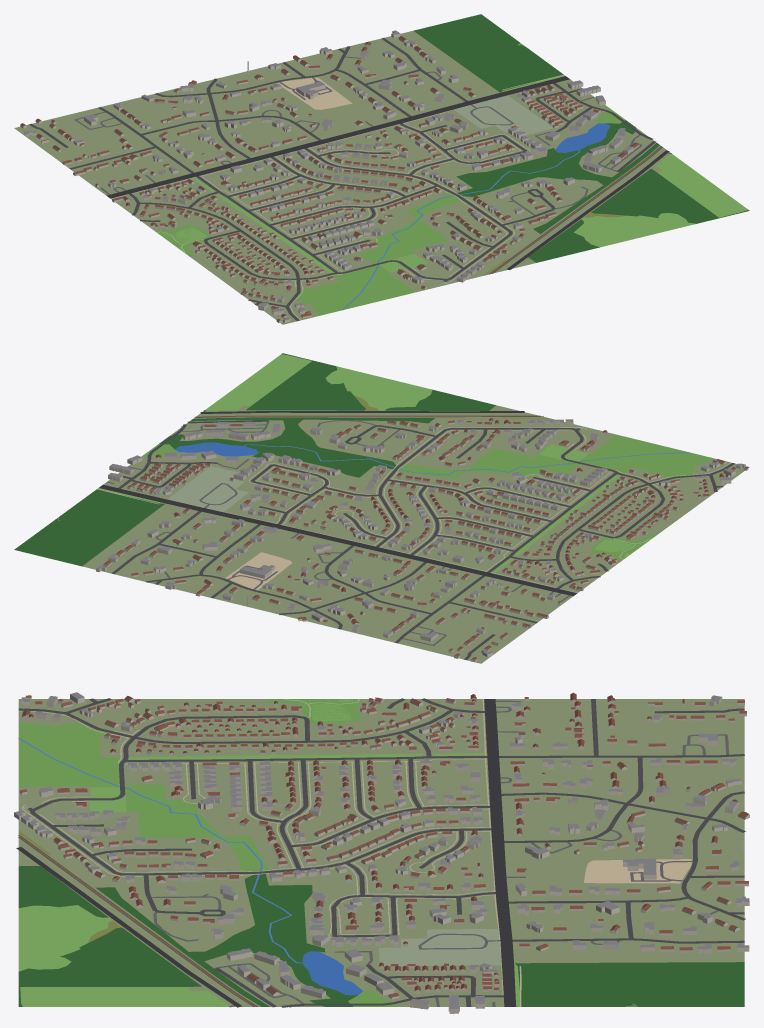
Rendered from level.obj.
3 renders of one model, top to bottom at view 1: azimuth 30°, elevation 25°; view 2: azimuth 150°, elevation 25°; view 3: azimuth 270°, elevation 25°, orthographic. The views are drawn at different scales.
Visible parts, largest first — view 1: ground_plane, gnd_wood_690356904, gnd_wood_1150045702, gnd_wood_690833325, gnd_park_690349266, gnd_grass_690833327, gnd_park_690349265, gnd_grass_1149534451, gnd_cemetery_690944823, road_777889530, road_742134928, gnd_wood_690833328 (+7 smaller); view 2: ground_plane, gnd_wood_690356904, gnd_wood_1150045702, gnd_wood_690833325, gnd_park_690349266, gnd_grass_690833327, gnd_park_690349265, gnd_grass_1149534451, gnd_cemetery_690944823, road_777889530, road_742134928, gnd_wood_690833328 (+8 smaller); view 3: ground_plane, gnd_wood_690356904, gnd_wood_1150045702, gnd_wood_690833325, gnd_park_690349266, gnd_grass_690833327, gnd_park_690349265, gnd_grass_1149534451, gnd_cemetery_690944823, gnd_wood_690833328, road_742134928, gnd_schoolyard_1150045698 (+20 smaller).
Boxes of the visible parts, <box> form: ground_plane: <box>14,31,670,324</box>; gnd_wood_690356904: <box>413,14,563,92</box>; gnd_wood_1150045702: <box>456,120,659,233</box>; gnd_wood_690833325: <box>591,168,749,223</box>; gnd_park_690349266: <box>295,265,415,315</box>; gnd_grass_690833327: <box>574,213,695,247</box>; gnd_park_690349265: <box>359,193,462,263</box>; gnd_grass_1149534451: <box>654,154,747,217</box>; gnd_cemetery_690944823: <box>454,95,553,134</box>; road_777889530: <box>126,76,567,192</box>; road_742134928: <box>128,81,553,193</box>; gnd_wood_690833328: <box>528,219,599,262</box>; ground_plane: <box>82,405,749,663</box>; gnd_wood_690356904: <box>14,489,164,566</box>; gnd_wood_1150045702: <box>159,417,434,477</box>; gnd_wood_690833325: <box>246,353,365,410</box>; gnd_park_690349266: <box>579,434,713,478</box>; gnd_grass_690833327: <box>326,366,432,410</box>; gnd_park_690349265: <box>396,448,579,478</box>; gnd_grass_1149534451: <box>205,354,311,410</box>; gnd_cemetery_690944823: <box>168,466,248,511</box>; road_777889530: <box>99,486,554,591</box>; road_742134928: <box>117,488,557,590</box>; gnd_wood_690833328: <box>385,389,495,411</box>; ground_plane: <box>18,699,744,1006</box>; gnd_wood_690356904: <box>515,962,744,1006</box>; gnd_wood_1150045702: <box>96,874,357,1006</box>; gnd_wood_690833325: <box>18,927,201,1006</box>; gnd_park_690349266: <box>18,722,123,787</box>; gnd_grass_690833327: <box>18,905,112,971</box>; gnd_park_690349265: <box>125,784,269,871</box>; gnd_grass_1149534451: <box>20,987,230,1006</box>; gnd_cemetery_690944823: <box>378,928,501,966</box>; gnd_wood_690833328: <box>18,866,108,917</box>; road_742134928: <box>485,712,510,996</box>; gnd_schoolyard_1150045698: <box>584,859,691,883</box>.
Bounding box in the file's own units: 1237 × 25 × 1214.
